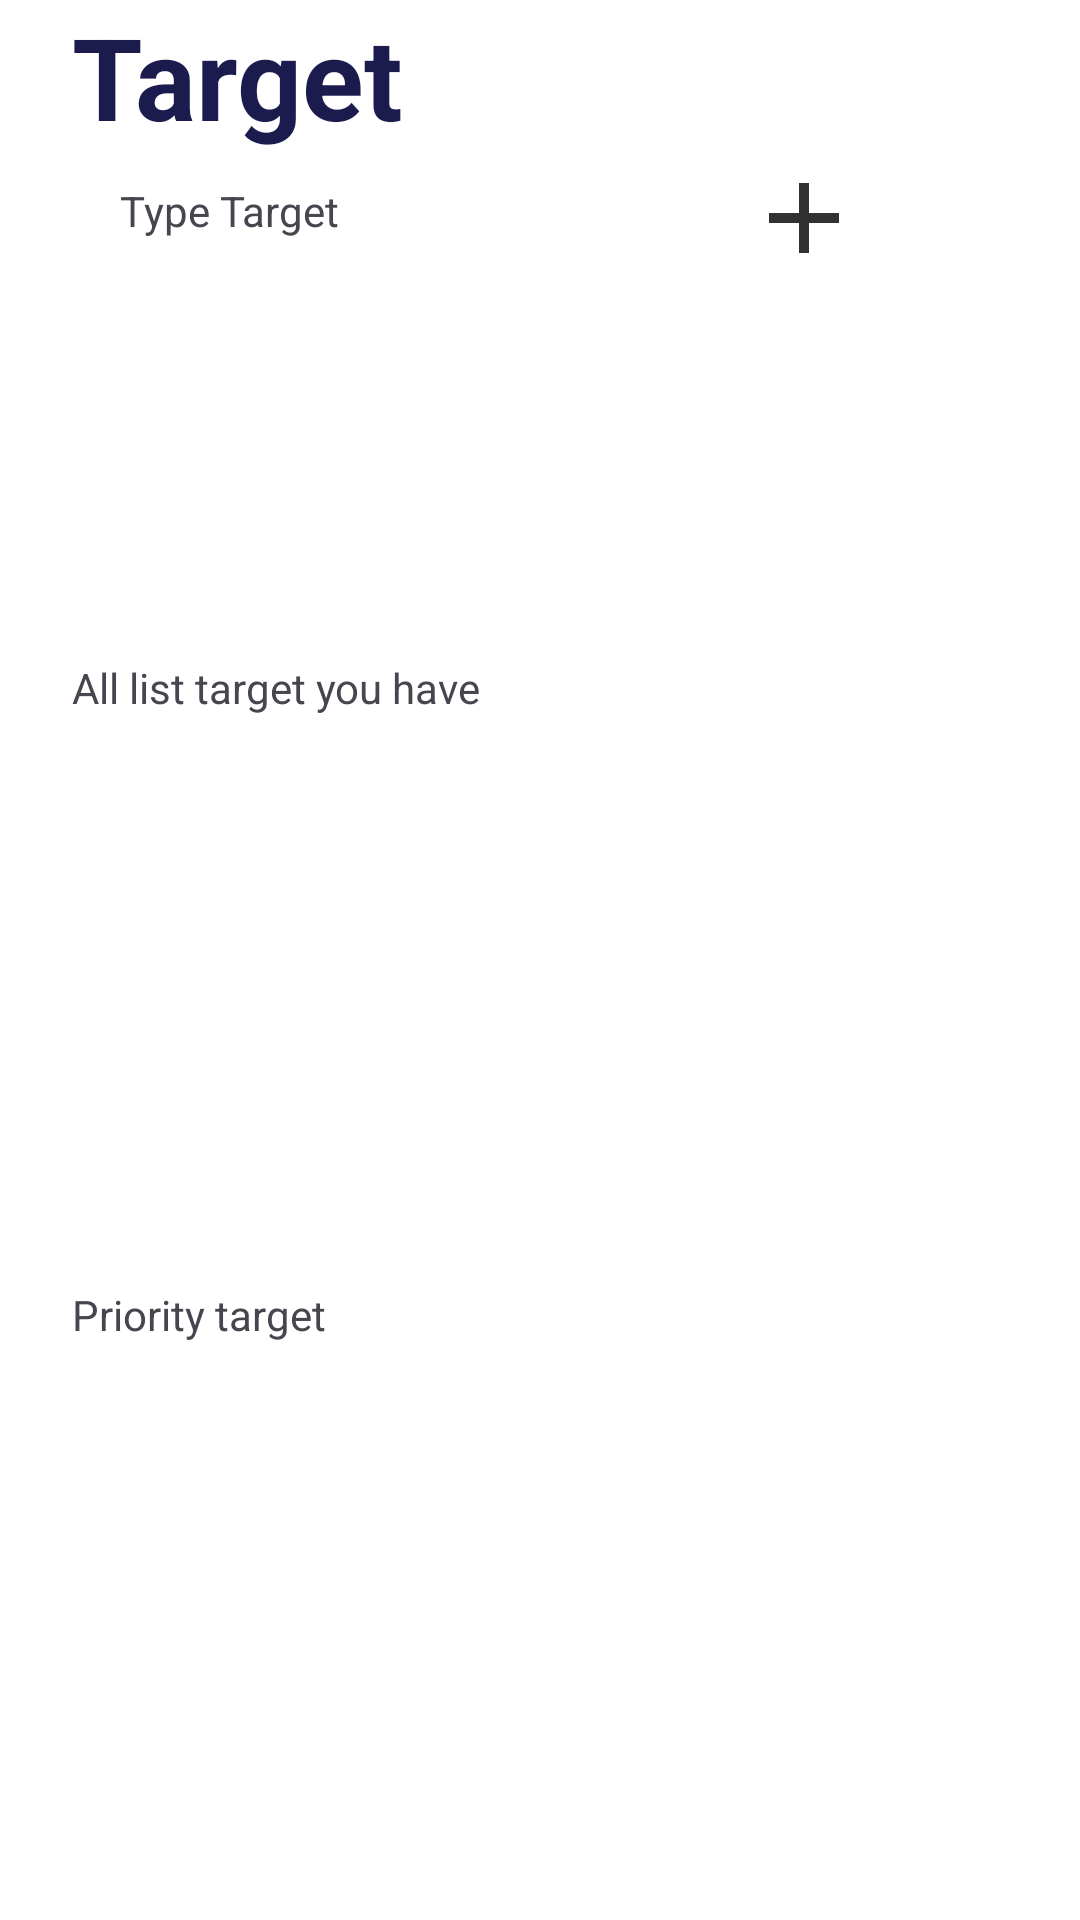

Named icons in this screenshot (1080x1920) and their centers, (x=x, y=y):
plus: (x=804, y=218)
